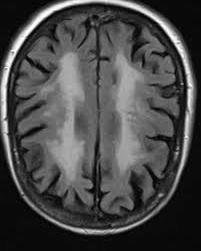Normal_Brain: (7, 7, 201, 251)
